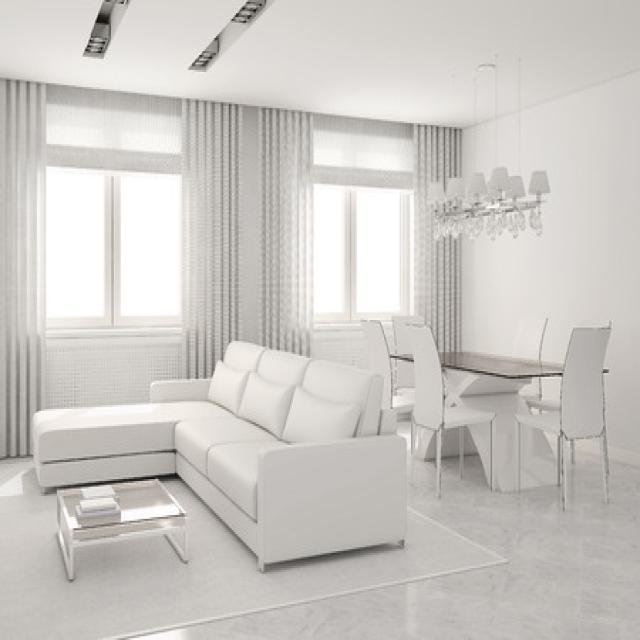white chair: (522, 321, 609, 507), (384, 320, 461, 492)
white sofa: (156, 335, 404, 571)
